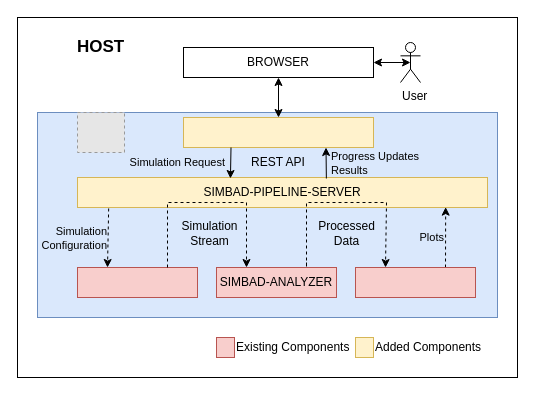
The diagram is 535 pixels wide and 395 high, and some of its shapes have lost their labels. Grey dashed boxes stand in for pictures. Here are the shapes that lost their labels. From the top down, the centre of each, then its label:
pixel 278 132: SIMBAD-CLIENT
pixel 137 282: SIMBAD-CLI
pixel 415 282: SIMBAD-REPORTS
